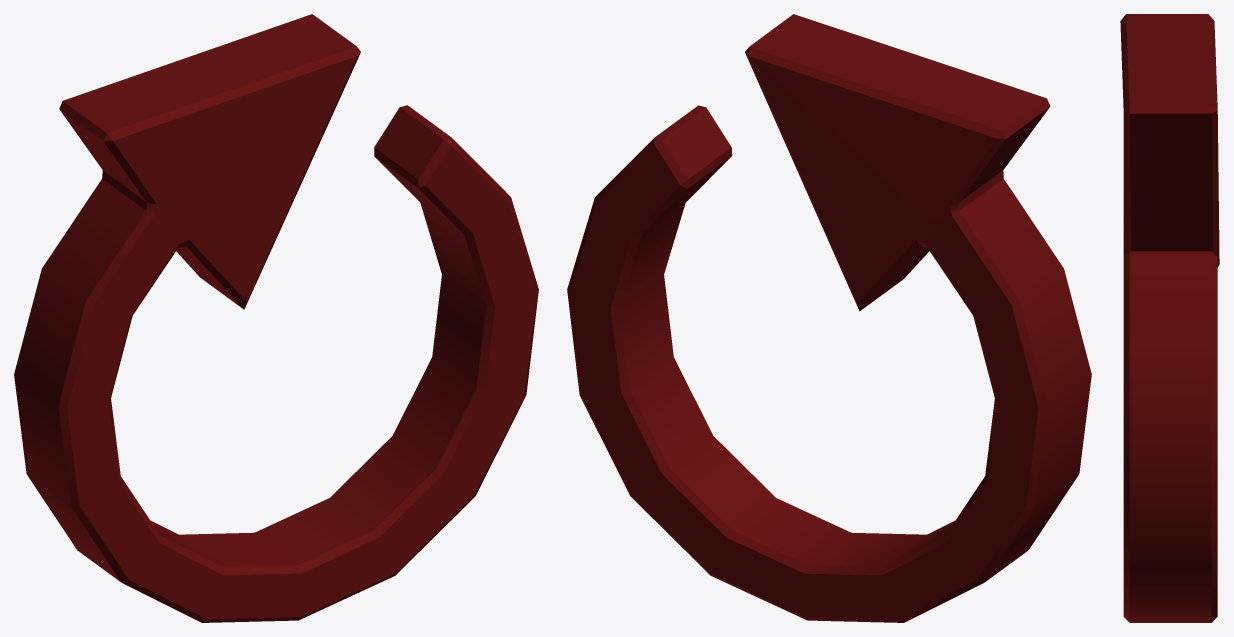
Rendered from SM_Reverse.fbx.
3 renders of one model, left to right at view 1: azimuth 30°, elevation 25°; view 2: azimuth 150°, elevation 25°; view 3: azimuth 270°, elevation 25°, orthographic. The views are drawn at different scales.
Parts seen in each view (by area): view 1: Reverse; view 2: Reverse; view 3: Reverse.
Boxes of the visible parts, <box> form: Reverse: <box>14,14,538,622</box>; Reverse: <box>567,14,1091,622</box>; Reverse: <box>1120,14,1219,622</box>.
Bounding box in the file's own units: 6.78 × 7.55 × 1.3.
